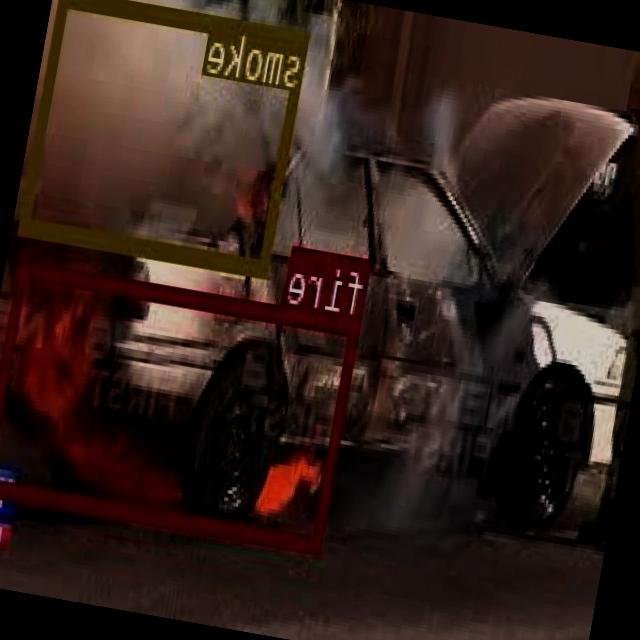fire: (0, 256, 363, 549)
smoke: (19, 0, 311, 274)
